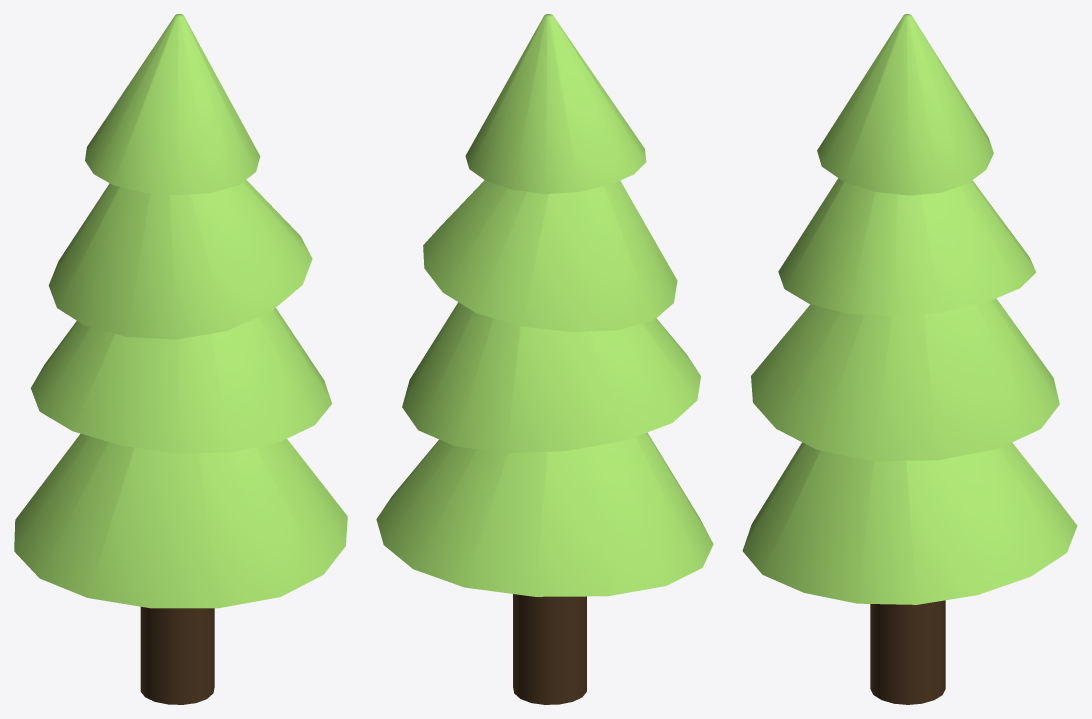
Rendered from tree_02.fbx.
3 renders of one model, left to right at view 1: azimuth 30°, elevation 25°; view 2: azimuth 150°, elevation 25°; view 3: azimuth 270°, elevation 25°, orthographic.
Visible parts, largest first — view 1: tree2_GEO; view 2: tree2_GEO; view 3: tree2_GEO.
Part boxes in pixels (x1=…): tree2_GEO: x1=14, y1=14, x2=347, y2=704; tree2_GEO: x1=376, y1=14, x2=713, y2=704; tree2_GEO: x1=742, y1=14, x2=1077, y2=704.
Size of the model in its own units: 163 by 158 by 351.
1 material, 1 textured.
